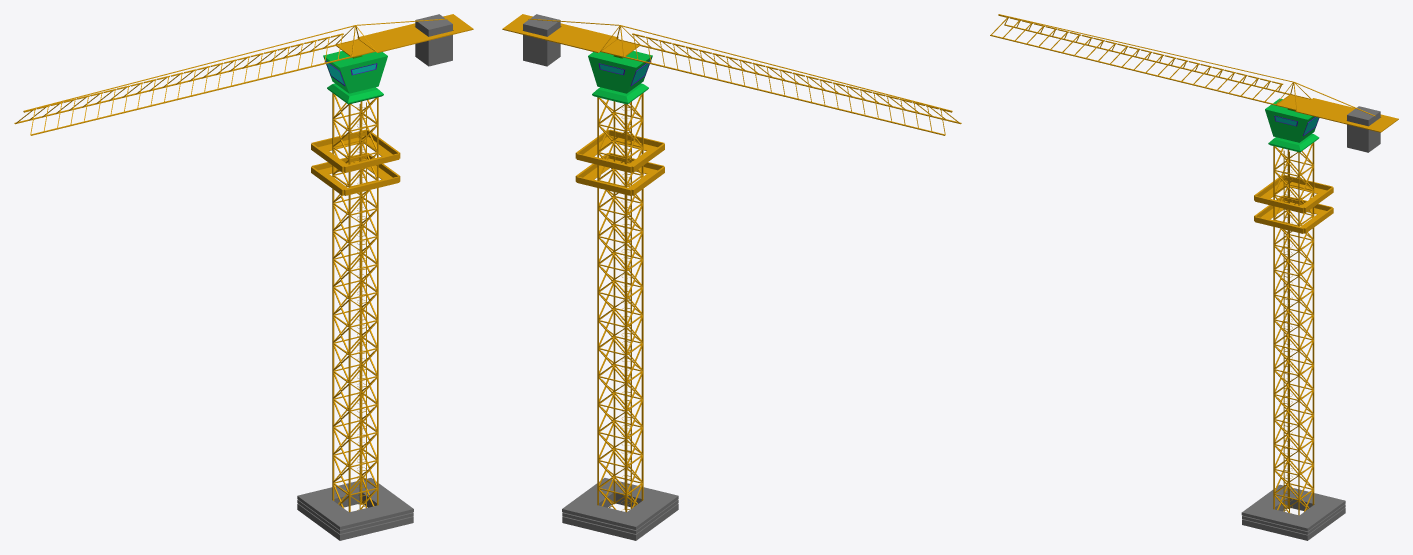
The model's file is crane.glb.
The picture shows the model from 3 angles, left to right: view 1: azimuth 30°, elevation 25°; view 2: azimuth 150°, elevation 25°; view 3: azimuth 330°, elevation 25°; orthographic projection. The views are drawn at different scales.
Visible parts, largest first — view 1: tower.001, weignt.001, -X.001, base.001, windows.003, stairs.001, +X.001, weignttop.001, uppercage.003; view 2: tower.001, weignt.001, -X.001, base.001, windows.003, stairs.001, +X.001, weignttop.001, uppercage.003; view 3: tower.001, weignt.001, -X.001, base.001, windows.003, stairs.001, +X.001, weignttop.001, uppercage.003.
Boxes of the visible parts, x1,y1,x2,y2 form: tower.001: (332,93,378,512); weignt.001: (297,478,413,540); -X.001: (14,33,351,135); base.001: (311,129,400,195); windows.003: (323,51,387,104); stairs.001: (357,102,366,510); +X.001: (357,14,473,52); weignttop.001: (415,14,452,66); uppercage.003: (24,18,447,111); tower.001: (597,93,643,512); weignt.001: (562,478,678,540); -X.001: (624,33,961,135); base.001: (575,129,664,195); windows.003: (588,51,652,104); stairs.001: (621,101,631,510); +X.001: (502,14,618,52); weignttop.001: (523,14,560,66); uppercage.003: (528,18,951,111); tower.001: (1273,142,1314,515); weignt.001: (1241,484,1345,540); -X.001: (990,15,1289,105); base.001: (1254,175,1333,233); windows.003: (1265,98,1319,152); stairs.001: (1283,150,1292,513); +X.001: (1295,98,1398,132); weignttop.001: (1347,106,1380,152); uppercage.003: (998,14,1375,116).
Bounding box in the file's own units: 14.65 × 15.6 × 2.46.
